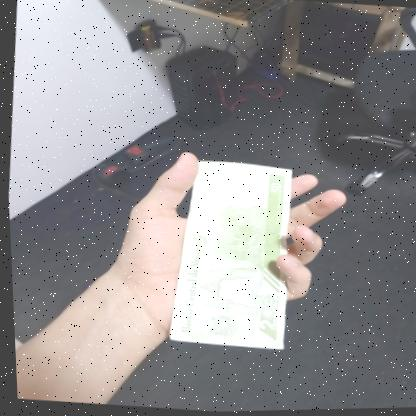fifty-back-vef: (159, 157, 298, 351)
